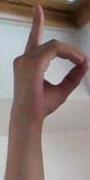D1: (2, 0, 90, 130)
